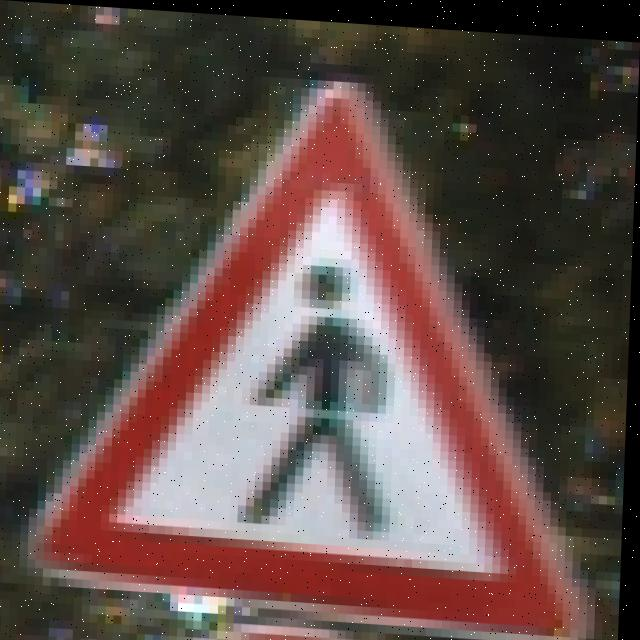crosswalk: (50, 56, 584, 640)
